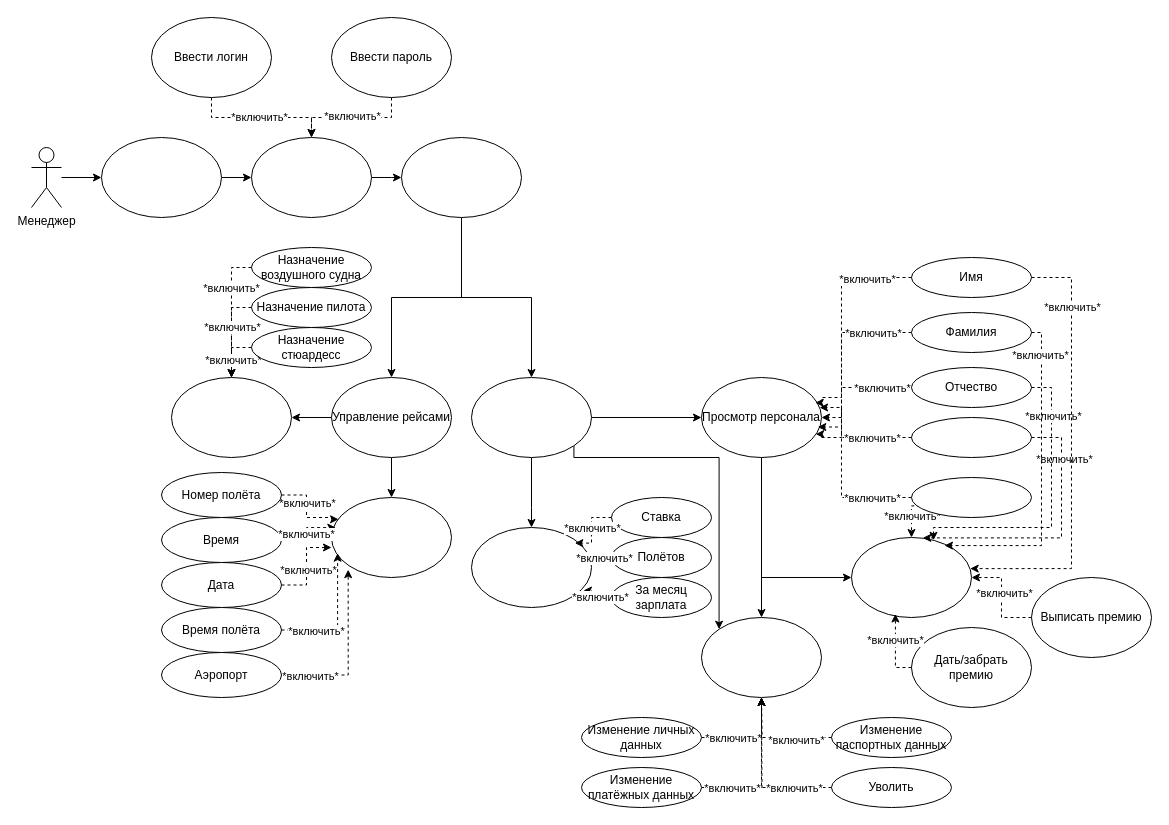
Some shapes in this 1169 by 825 pixel diagram are drawn without their labels. Here are the shapes that lost their labels. From the top down, the centre of each, then its label:
pixel 161 177: Запуск приложения
pixel 311 177: Авторизация
pixel 461 177: Панель администратора
pixel 231 417: Добавление/изменение данных рейса
pixel 531 417: Управление персоналом
pixel 971 437: Дата рождения
pixel 971 497: Дата устройства
pixel 391 537: Изменение расписания полётов
pixel 531 567: Расчёт зарплаты
pixel 911 577: Премии
pixel 761 657: Измение данных пользователя
